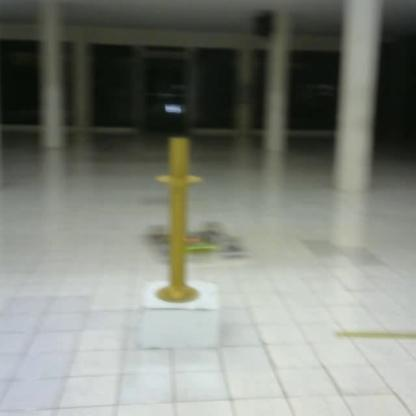pole: (150, 127, 205, 313)
